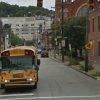buses: (1, 47, 41, 90)
